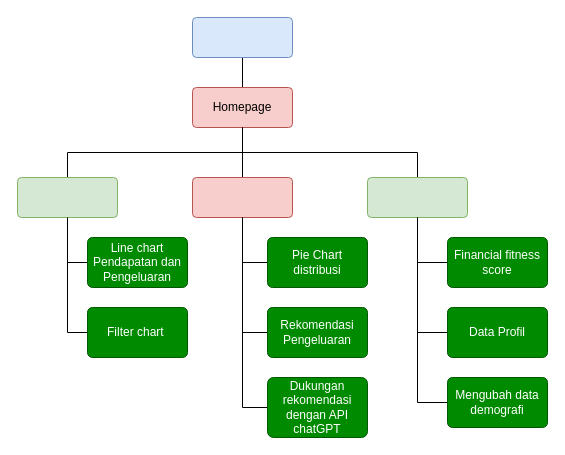
The diagram is 565 pixels wide and 455 high, and some of its shapes have lost their labels. Each missing label, with the centre of its shape:
"Login/register" goes at [242,37].
"Profil" goes at [417,197].
"Rekap Finansial" goes at [67,197].
"Rekomendasi" goes at [242,197].
